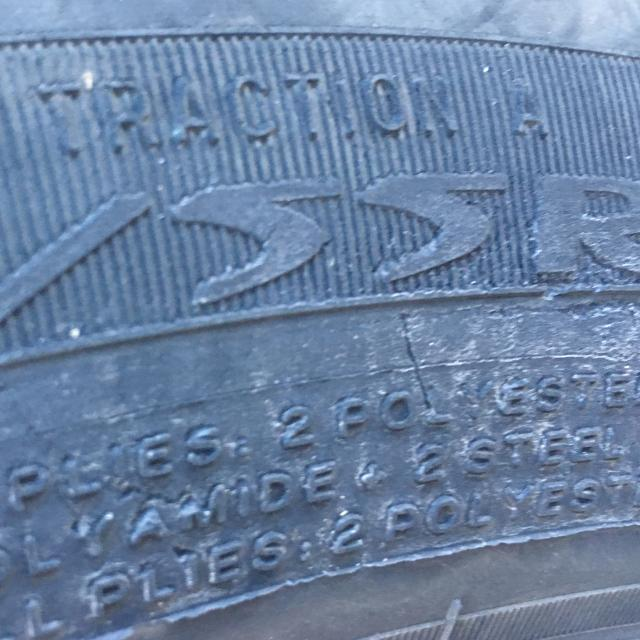Cracks: (391, 284, 453, 436)
